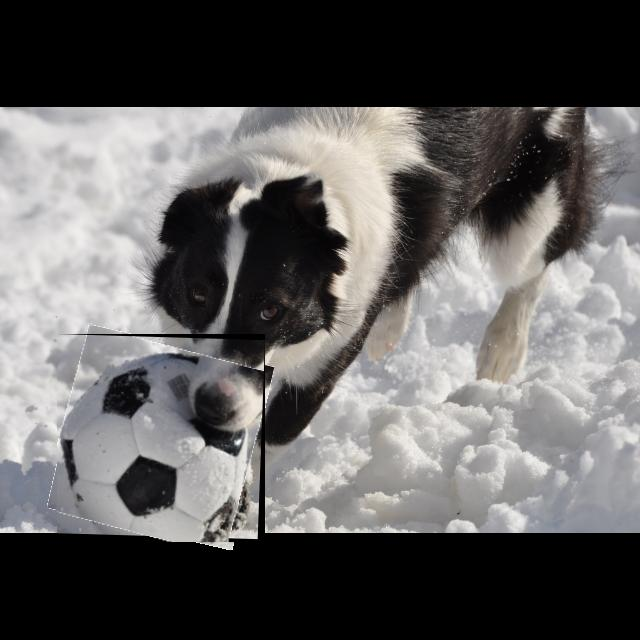Football: (57, 334, 265, 542)
